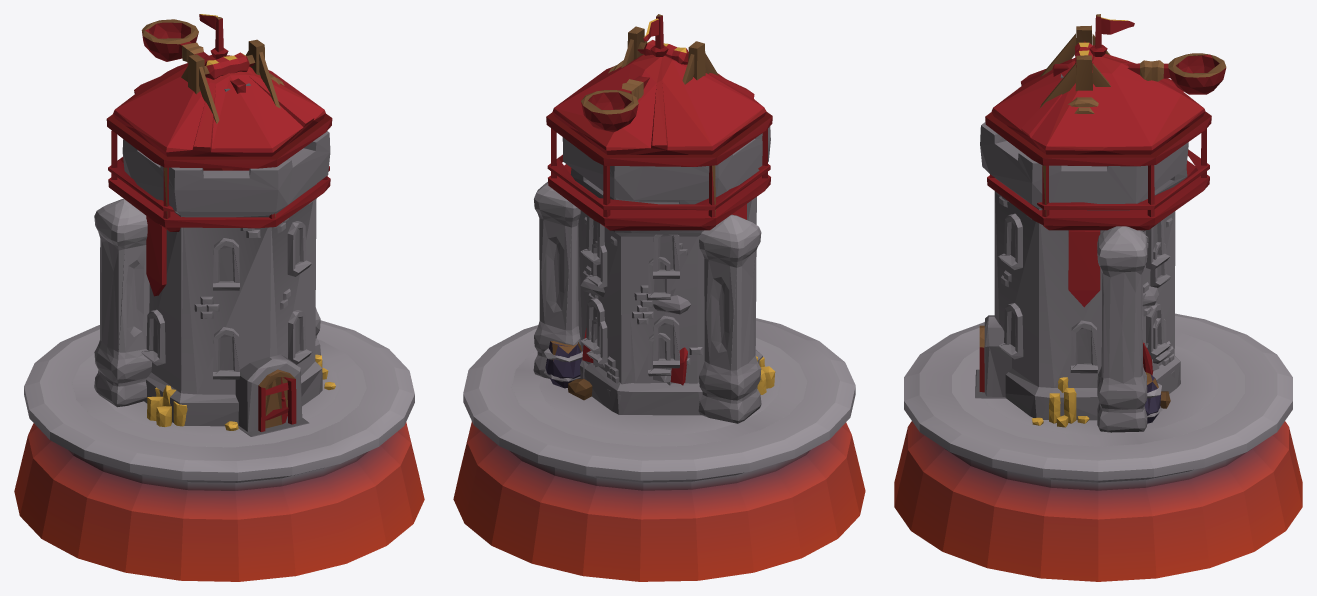
The model's file is fortress-s8-BJZGkNOo.glb.
3 renders of one model, left to right at view 1: azimuth 30°, elevation 25°; view 2: azimuth 150°, elevation 25°; view 3: azimuth 270°, elevation 25°, orthographic.
Parts seen in each view (by area): view 1: sc_z2_0, sc_z2_3, sc_z1_3, sc_z0_3, sc_z3_0; view 2: sc_z2_0, sc_z2_3, sc_z1_3, sc_z0_3, sc_z3_0; view 3: sc_z2_0, sc_z2_3, sc_z1_3, sc_z0_3, sc_z3_0.
Boxes of the visible parts, <box> form: sc_z2_0: <box>14,19,424,581</box>; sc_z2_3: <box>106,14,332,231</box>; sc_z1_3: <box>72,198,366,447</box>; sc_z0_3: <box>105,359,339,435</box>; sc_z3_0: <box>147,354,335,430</box>; sc_z2_0: <box>453,26,865,581</box>; sc_z2_3: <box>546,14,772,403</box>; sc_z1_3: <box>511,182,807,446</box>; sc_z0_3: <box>539,277,779,435</box>; sc_z3_0: <box>582,328,775,394</box>; sc_z2_0: <box>894,25,1302,581</box>; sc_z2_3: <box>985,14,1211,377</box>; sc_z1_3: <box>952,226,1244,446</box>; sc_z0_3: <box>984,286,1217,434</box>; sc_z3_0: <box>1032,342,1159,427</box>.
Size of the model in its own units: 13.86 by 17.79 by 13.72.
